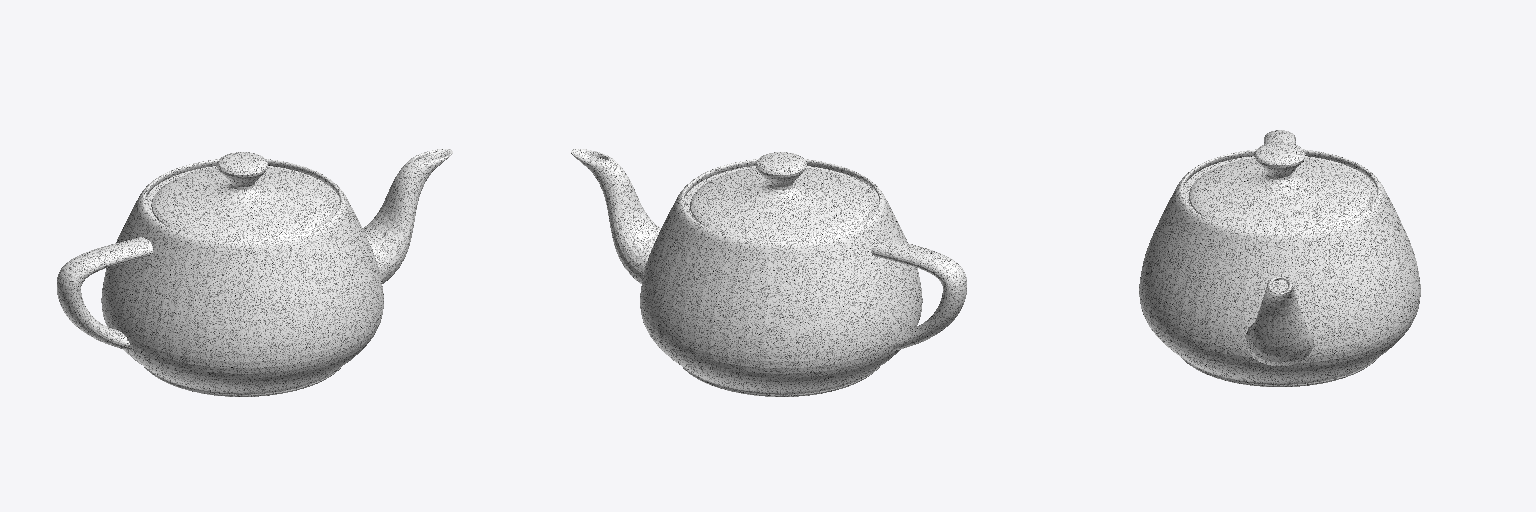
The picture shows the model from 3 angles: view 1: azimuth 30°, elevation 25°; view 2: azimuth 150°, elevation 25°; view 3: azimuth 270°, elevation 25°; orthographic projection.
Parts seen in each view (by area): view 1: Utah_teapot_(solid); view 2: Utah_teapot_(solid); view 3: Utah_teapot_(solid).
Part boxes in pixels (x1,y1,x2,y2): Utah_teapot_(solid): (57, 149, 452, 396); Utah_teapot_(solid): (571, 149, 966, 396); Utah_teapot_(solid): (1139, 130, 1420, 386).
Bounding box in the file's own units: 17.58 × 8.57 × 10.93.
Materials: 1 (1 with a texture image).